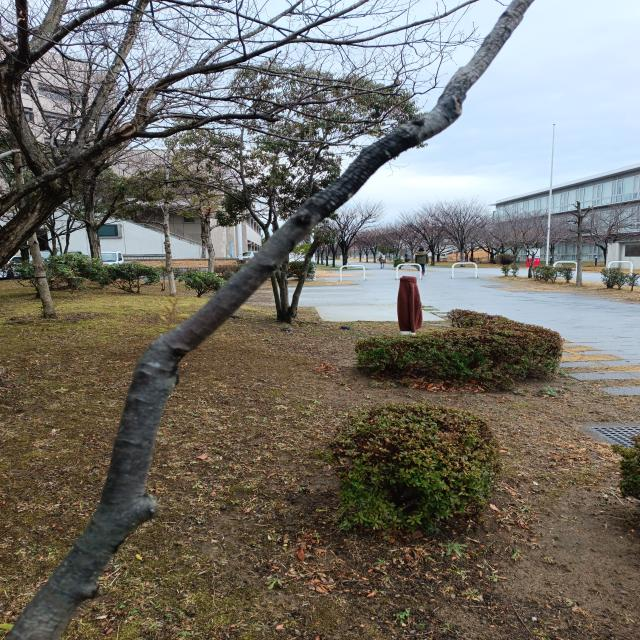Twig: (7, 0, 532, 640)
